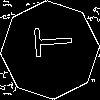T: (25, 25, 73, 59)
